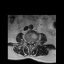CCS_normal: (29, 40, 31, 47)
LFS_normal: (32, 40, 34, 45)
LLS_stenosis: (31, 40, 32, 46)
RFS_normal: (26, 39, 28, 45)
RLS_stenosis: (28, 39, 29, 46)
